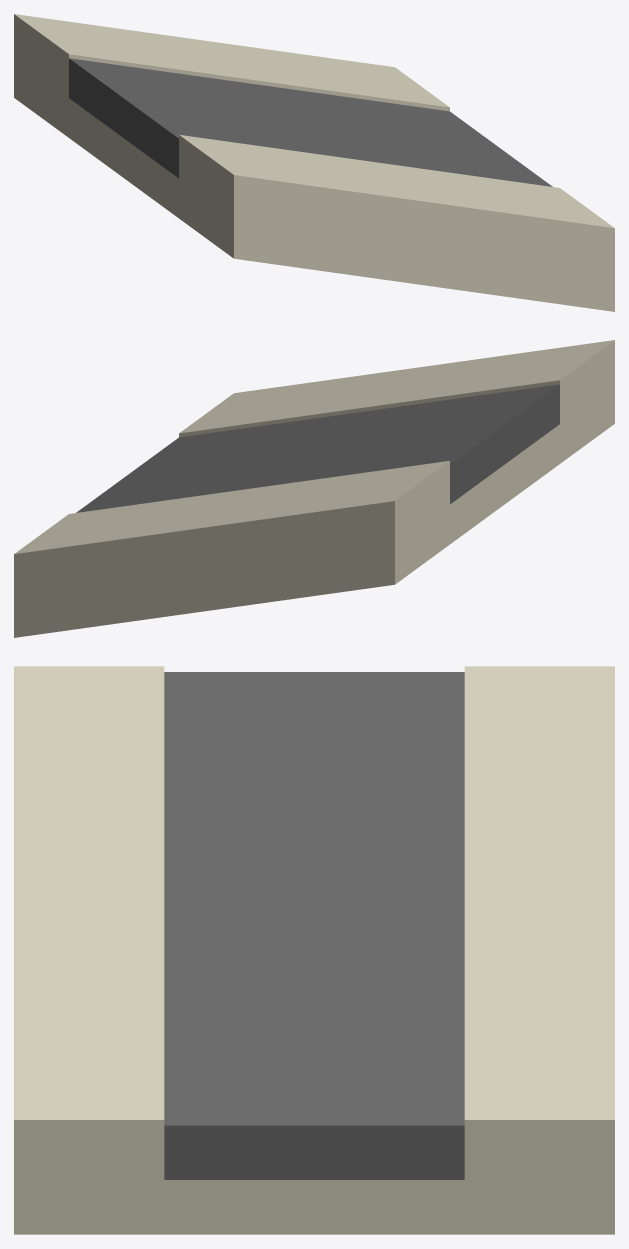
File: tile005.dae
3 renders of one model, top to bottom at view 1: azimuth 30°, elevation 25°; view 2: azimuth 150°, elevation 25°; view 3: azimuth 270°, elevation 25°, orthographic. The views are drawn at different scales.
Visible parts, largest first — view 1: tile005; view 2: tile005; view 3: tile005.
Part boxes in pixels (x1,y1,x2,y2): tile005: [14, 14, 614, 311]; tile005: [14, 340, 614, 637]; tile005: [14, 666, 614, 1234].
Bounding box in the file's own units: 1 × 0.5767 × 1.
